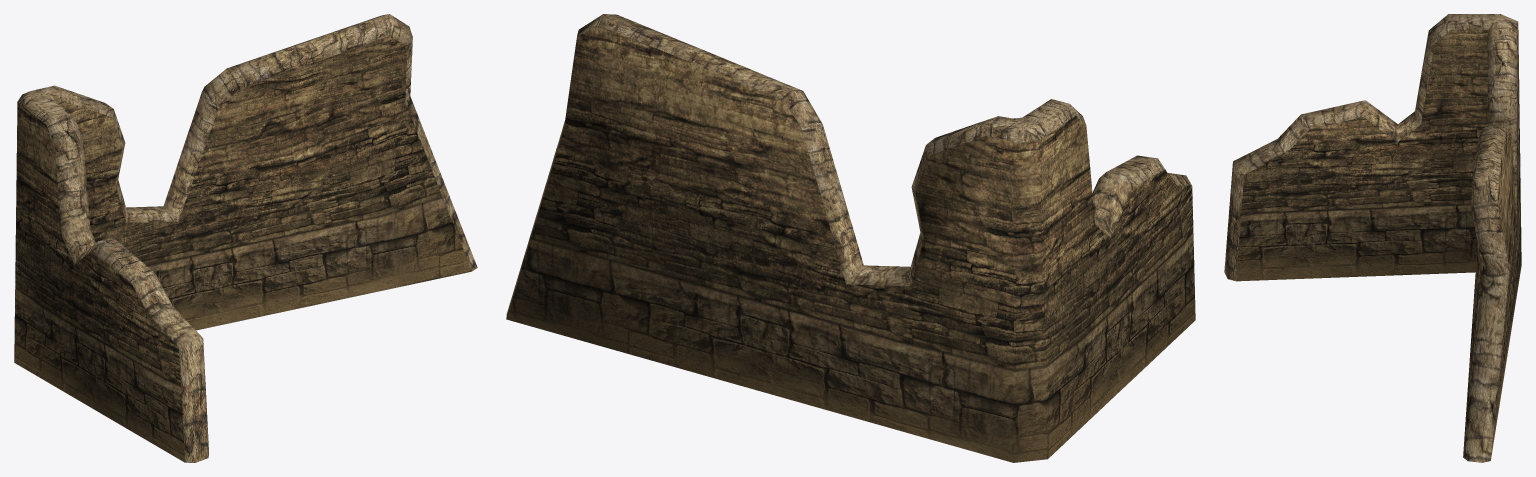
The model's file is SandstoneRuins4.fbx.
3 views of the same model, side by side, from view 1: azimuth 30°, elevation 25°; view 2: azimuth 150°, elevation 25°; view 3: azimuth 270°, elevation 25° (orthographic). The views are drawn at different scales.
Parts seen in each view (by area): view 1: Object008; view 2: Object008; view 3: Object008.
Boxes of the visible parts, left/top/right/bottom form: Object008: left=14, top=14, right=477, bottom=462; Object008: left=506, top=14, right=1195, bottom=462; Object008: left=1224, top=14, right=1521, bottom=462.
Bounding box in the file's own units: 462 × 261 × 282.
